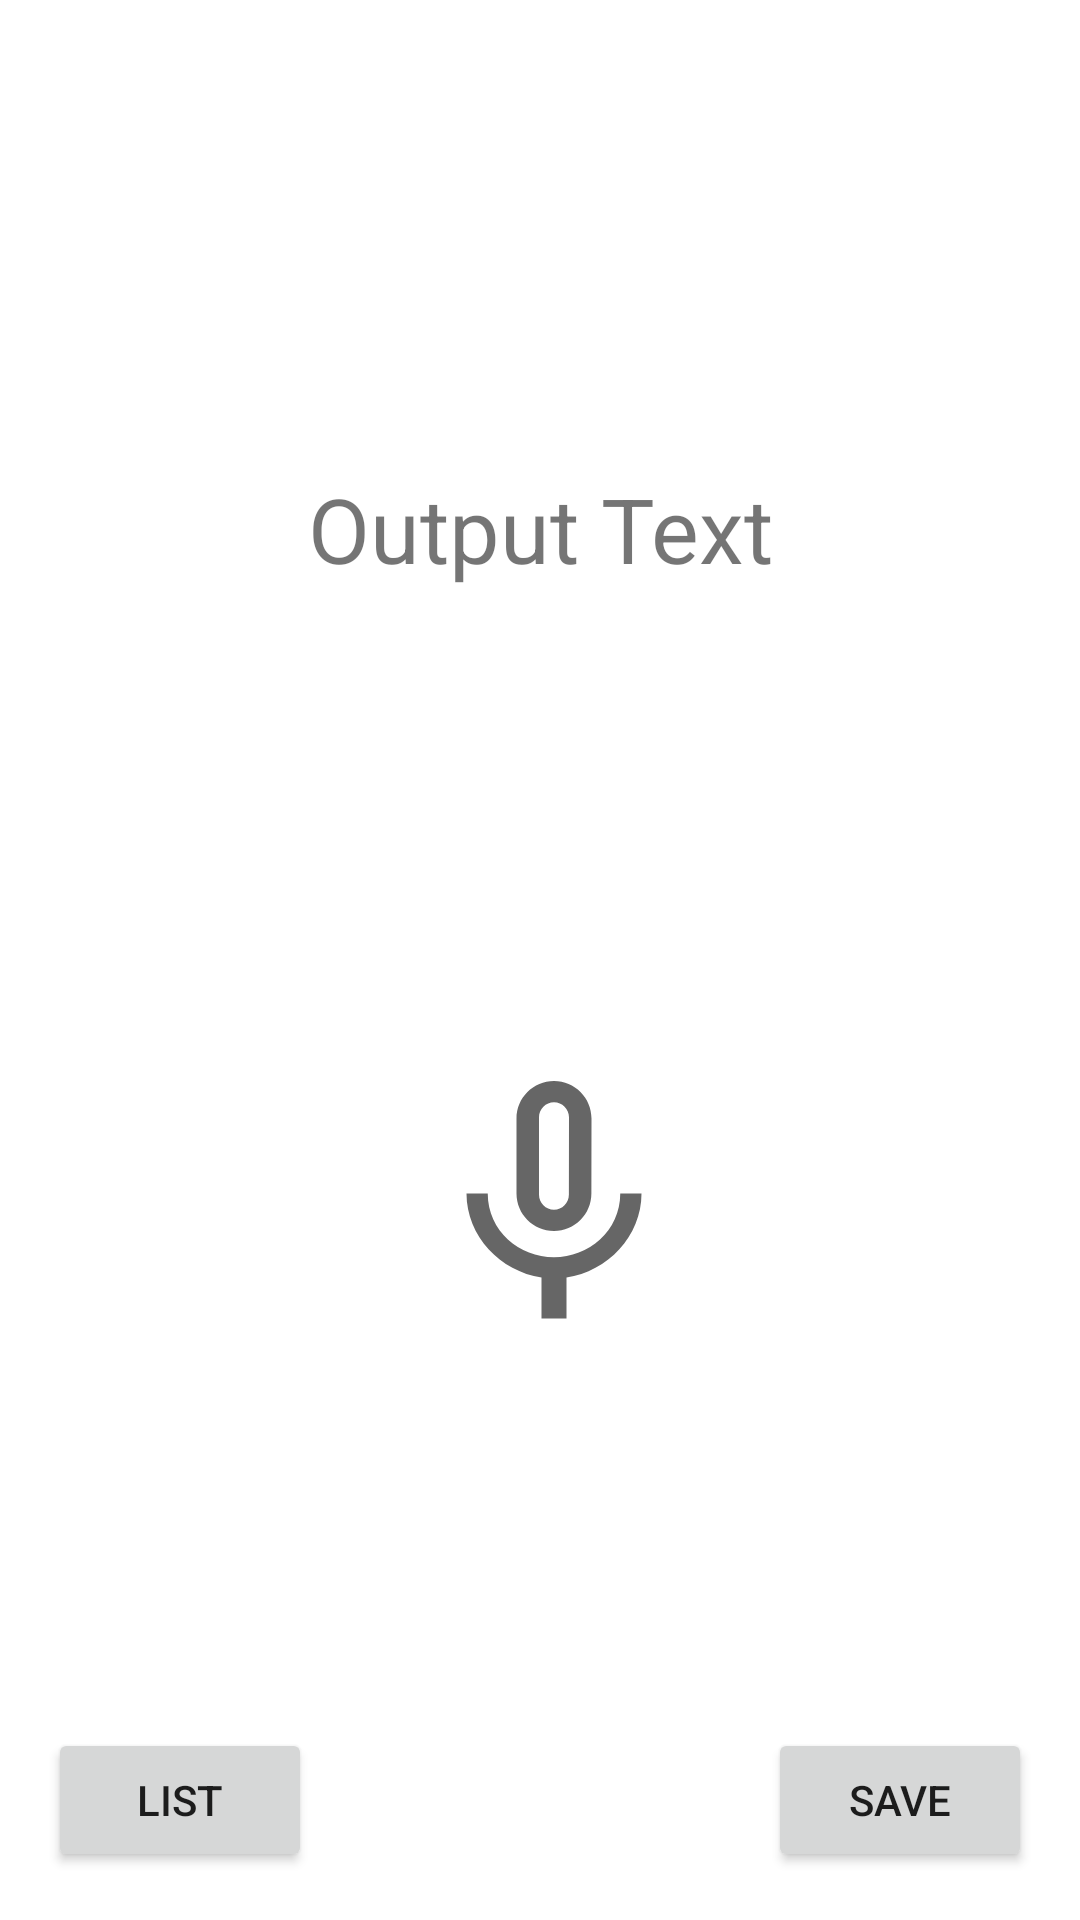

Where to tap for icons on this 1080 × 1920 app screen, as (x,y):
mic none: (554,1200)
